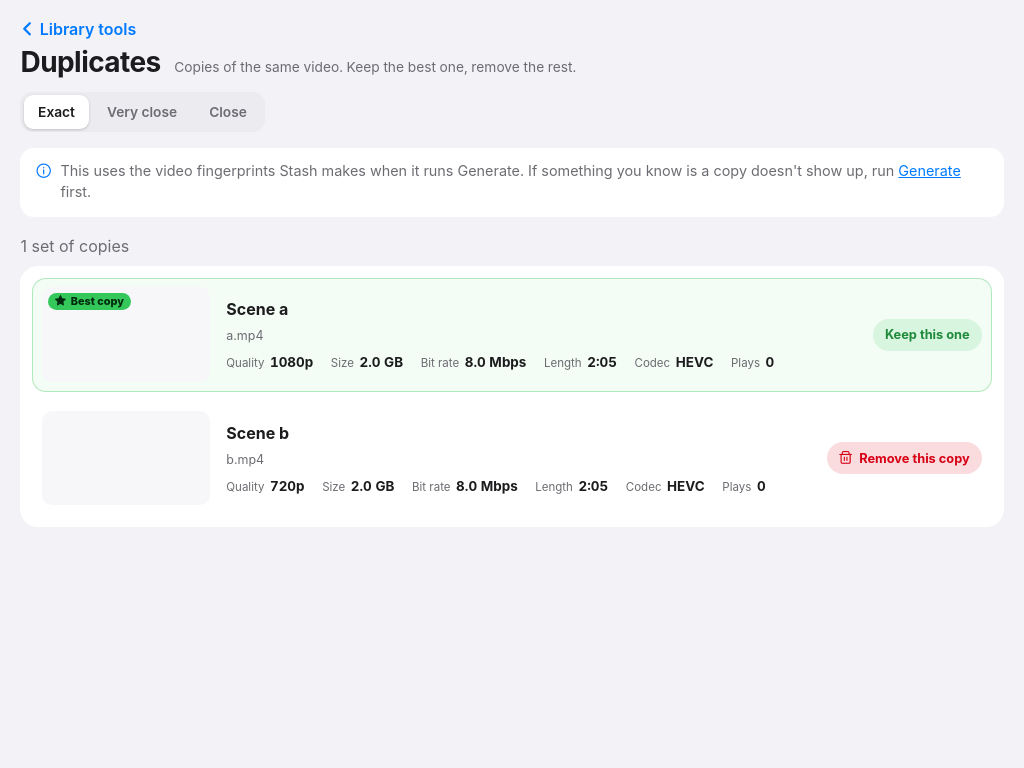
Test: DuplicatesPageComponent › cancel closes the sheet without removing anything
Click the button with class "danger" at (904, 458), box [827,442,982,474]
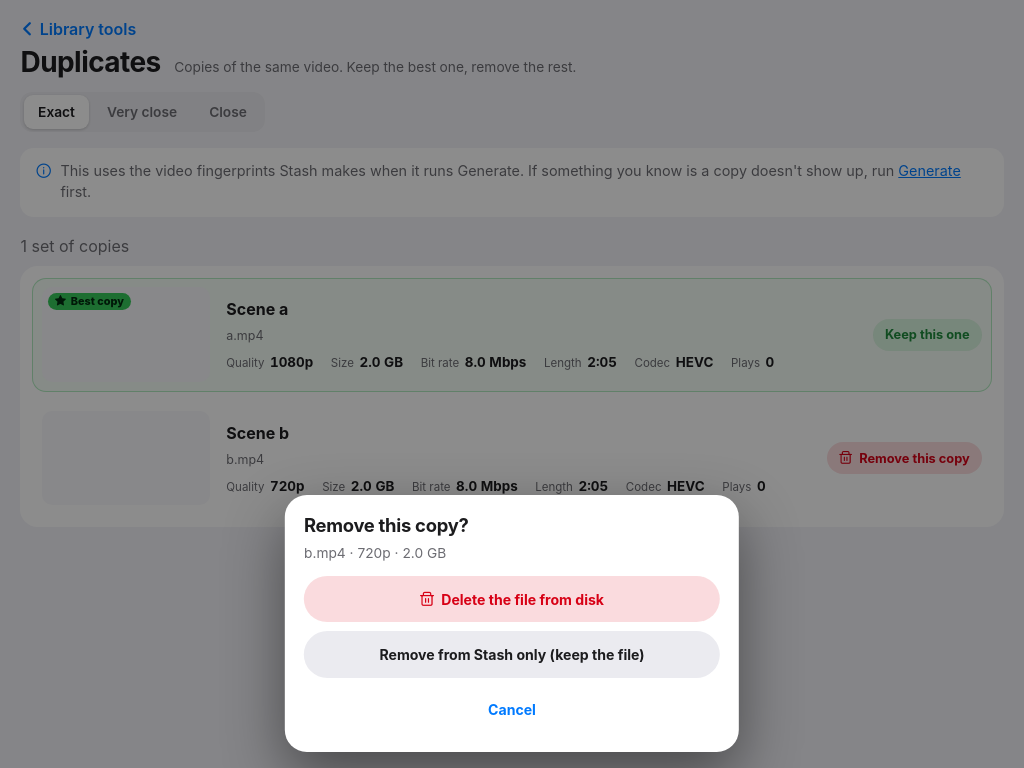
Click the button "Cancel" at (512, 710), box [304,686,720,733]
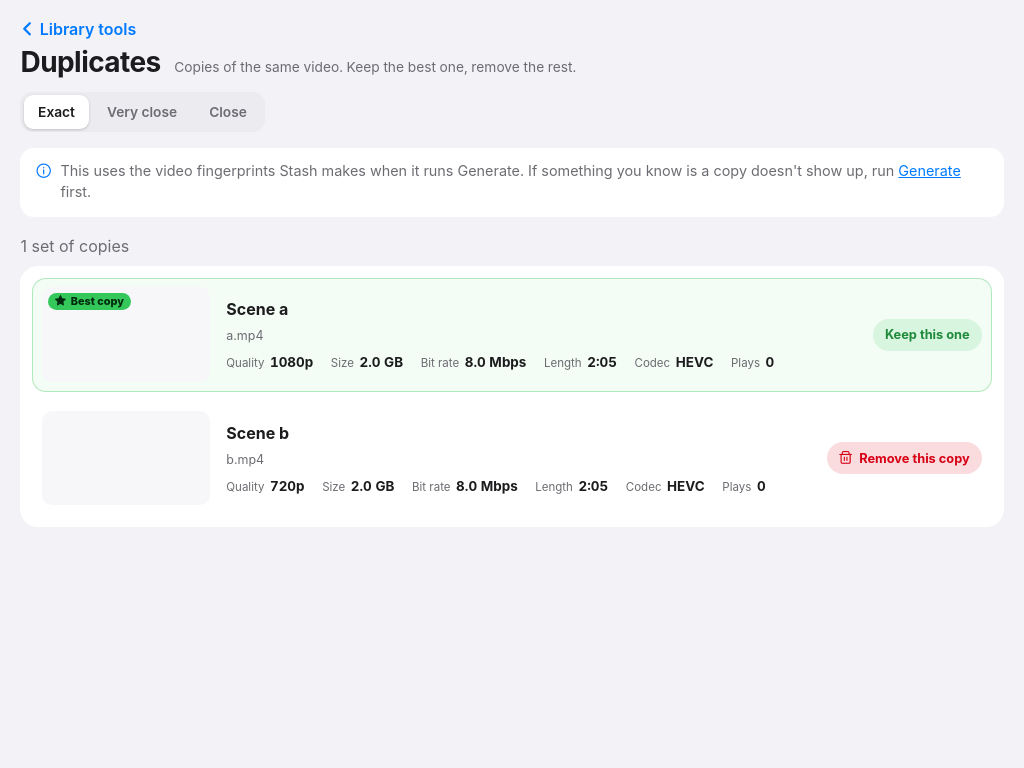
Check: the dialog with class "sheet" is gone
